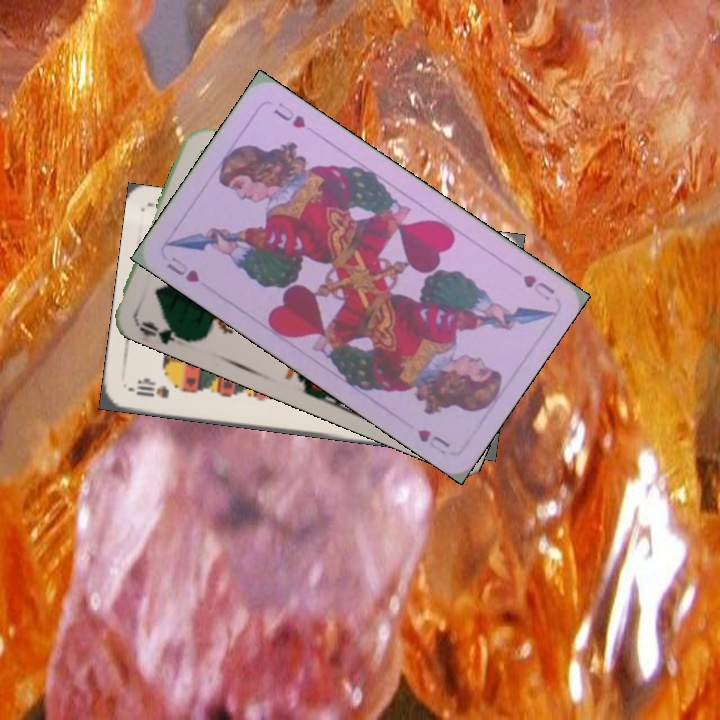GO: (133, 314, 190, 346)
HU: (162, 252, 202, 286), (519, 270, 558, 304)
S10: (126, 378, 172, 401)
